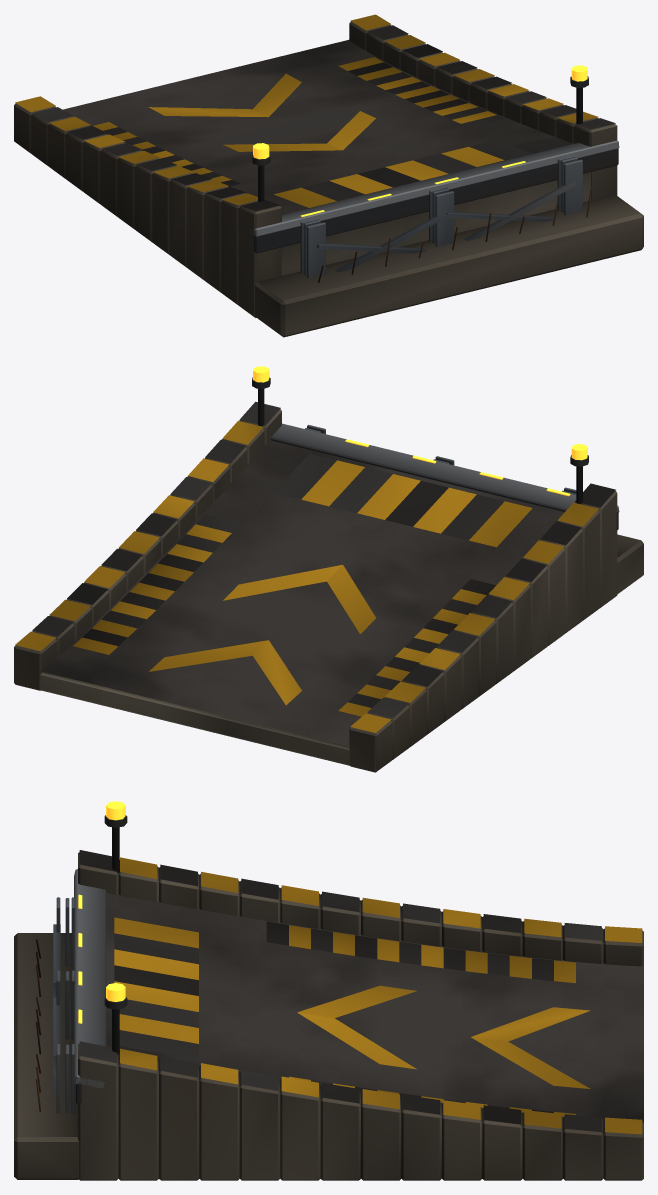
Rendered from jump_ramp_small.glb.
3 renders of one model, top to bottom at view 1: azimuth 30°, elevation 25°; view 2: azimuth 150°, elevation 25°; view 3: azimuth 270°, elevation 25°, orthographic. The views are drawn at different scales.
Parts seen in each view (by area): view 1: concrete_dark, road_surface, hazard, steel_beam, metal_dark, concrete, metal_bare, light_amber; view 2: road_surface, hazard, concrete_dark, concrete, metal_bare, metal_dark, light_amber; view 3: concrete_dark, road_surface, hazard, metal_bare, steel_beam, metal_dark, light_amber, rebar.
Part boxes in pixels (x1,y1,x2,y2): concrete_dark: (14,21,643,337); road_surface: (63,40,573,214); hazard: (15,14,615,211); steel_beam: (300,155,582,278); metal_dark: (252,76,618,253); concrete: (281,172,590,275); metal_bare: (247,140,619,237); light_amber: (253,65,587,216); road_surface: (40,440,564,746); hazard: (15,401,615,732); concrete_dark: (14,409,643,772); concrete: (40,672,349,765); metal_bare: (271,423,619,512); metal_dark: (252,377,618,530); light_amber: (253,366,587,496); concrete_dark: (14,852,643,1180); road_surface: (106,893,643,1122); hazard: (79,850,642,1134); metal_bare: (74,869,106,1087); steel_beam: (53,897,75,1113); metal_dark: (76,815,127,1104); light_amber: (78,801,125,1023); rebar: (35,939,41,1111).
Size of what is drawn, in the model's own units: 6.5 by 2.66 by 8.35.
